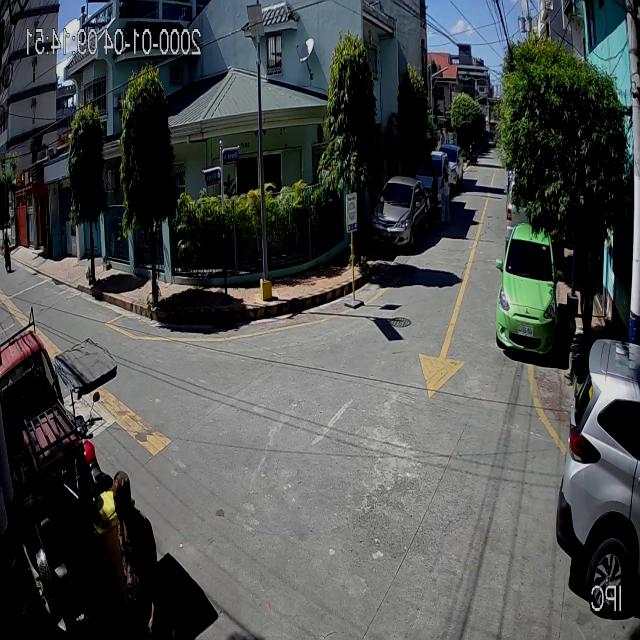walking: (112, 467, 184, 640), (438, 167, 451, 227), (431, 168, 440, 225)
